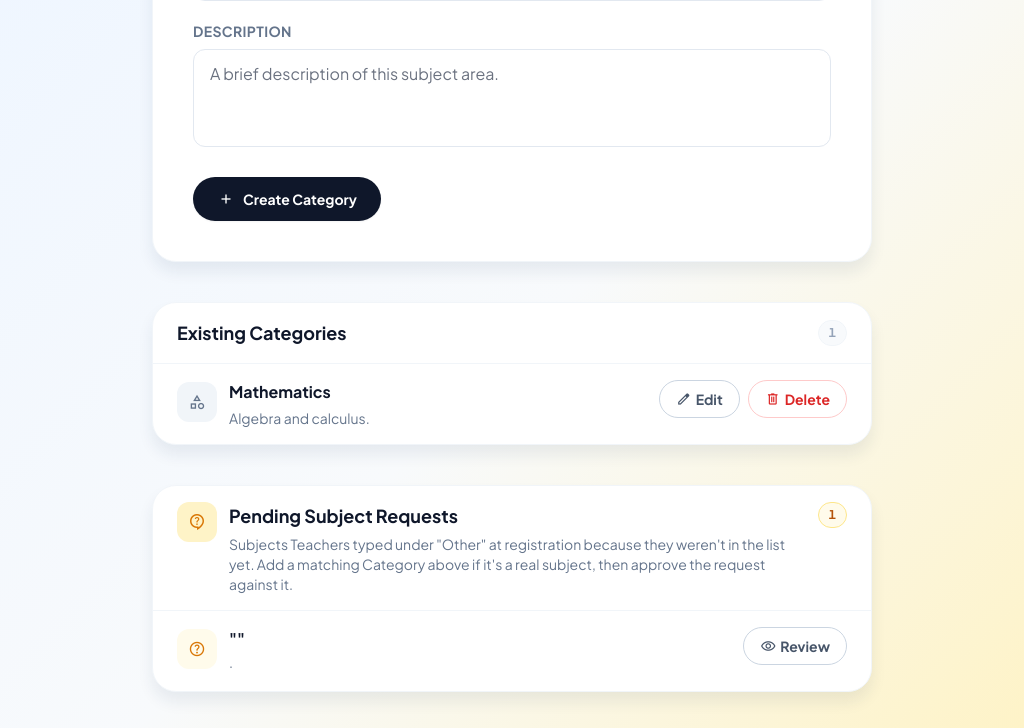
Test case: CategoryManagementPage › clicking Cancel while editing discards changes and leaves the category untouched
(page scrolled)
Expected: the text "Mathematics" is shown, [229,381,331,402]
Click the button "Edit".
click(699, 399)  # box [659,380,740,418]
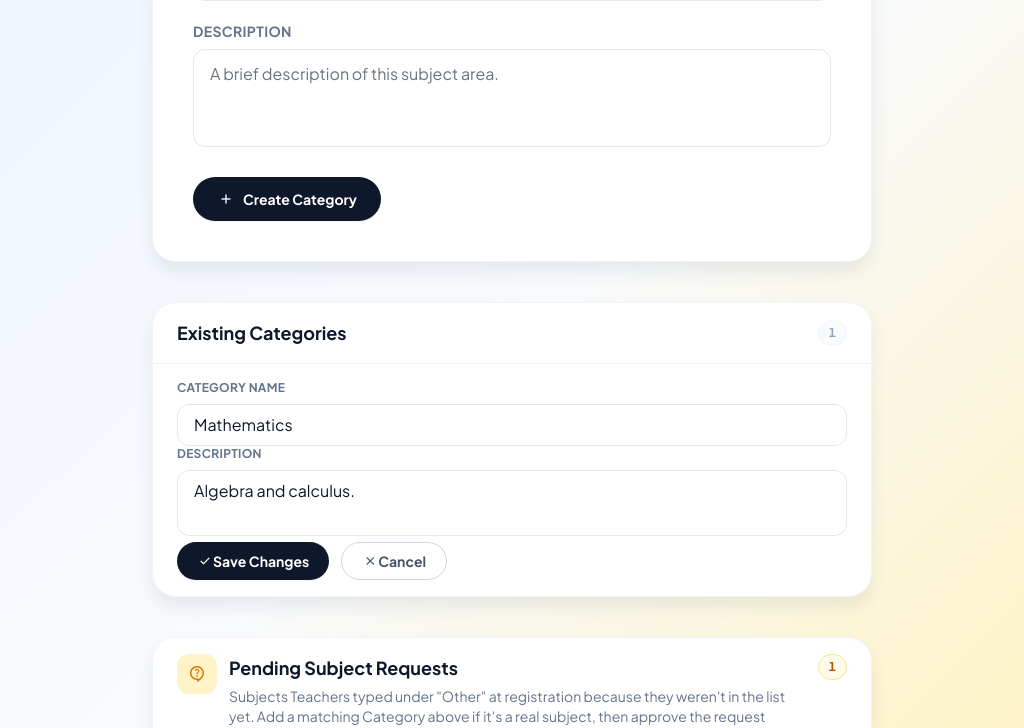
Replace the text in the field labelled "Category Name" below "Existing Categories" with "Something Else" at [512, 425], box [177,404,847,446]
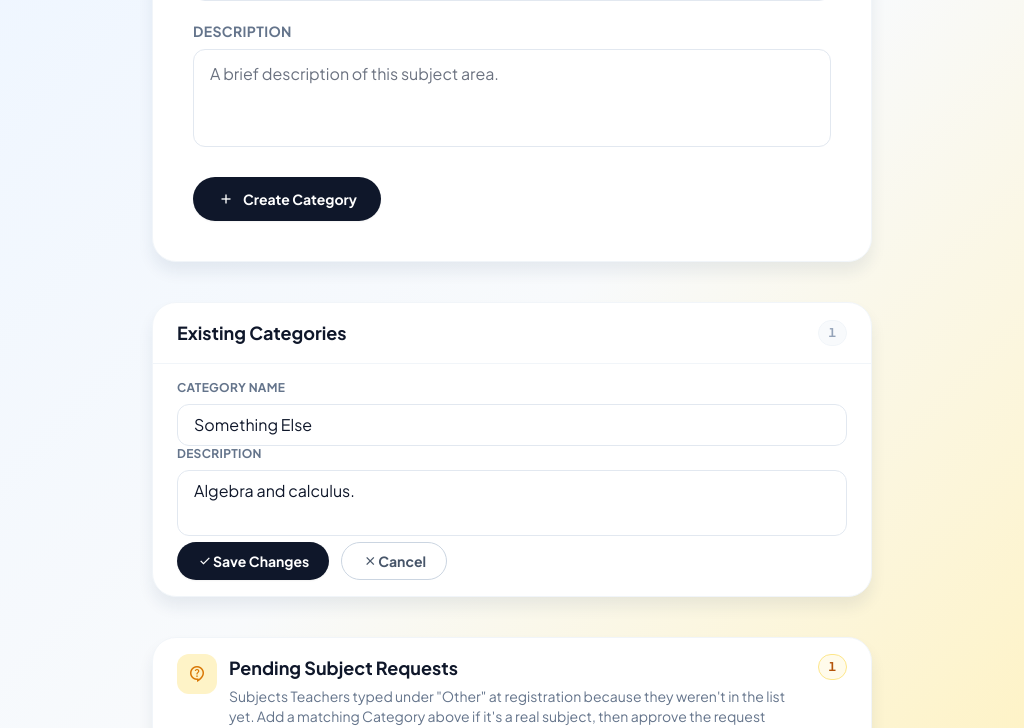
Click the button "Cancel".
click(394, 561)  # box [341,542,447,580]
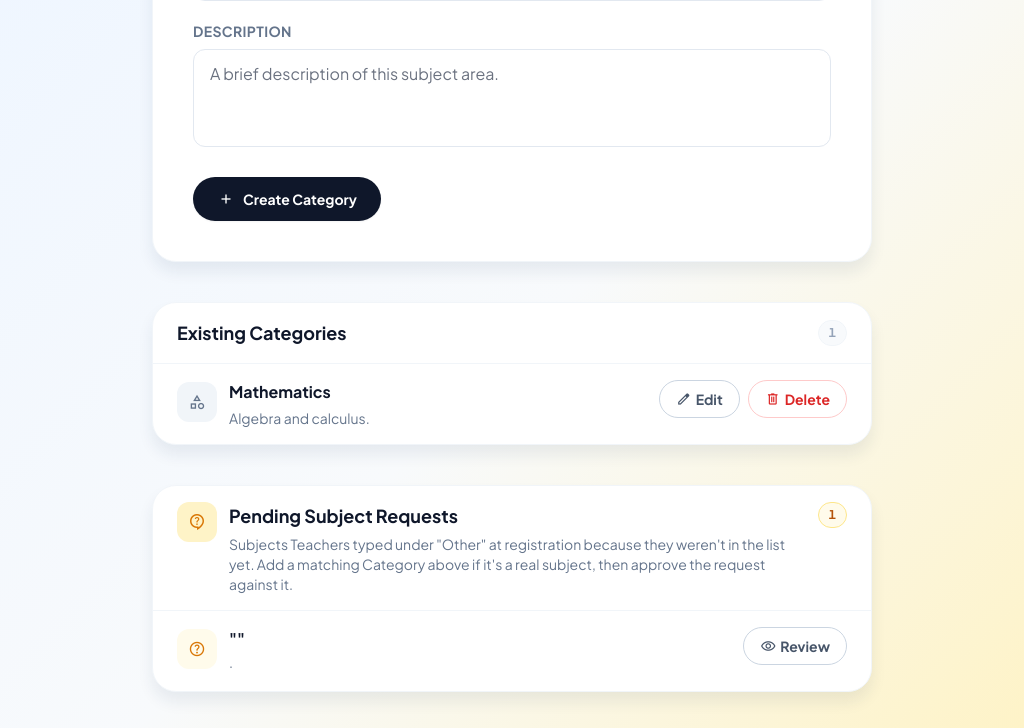
Expected: the text "Something Else" is not shown
Expected: the text "Mathematics" is shown, [229,381,331,402]
